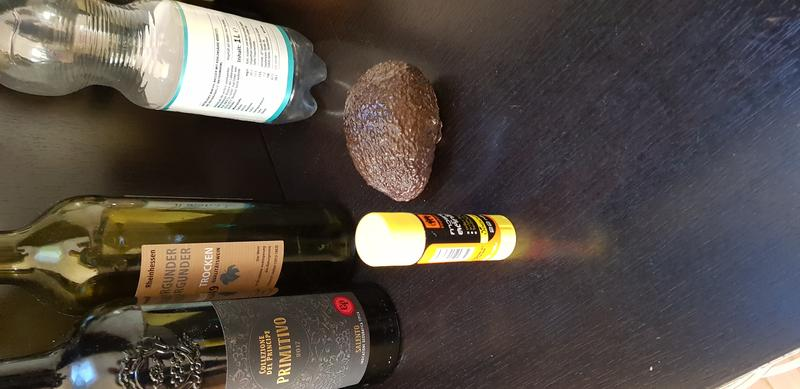Avocado: (340, 58, 449, 205)
Glue-Stick: (349, 209, 519, 268)
